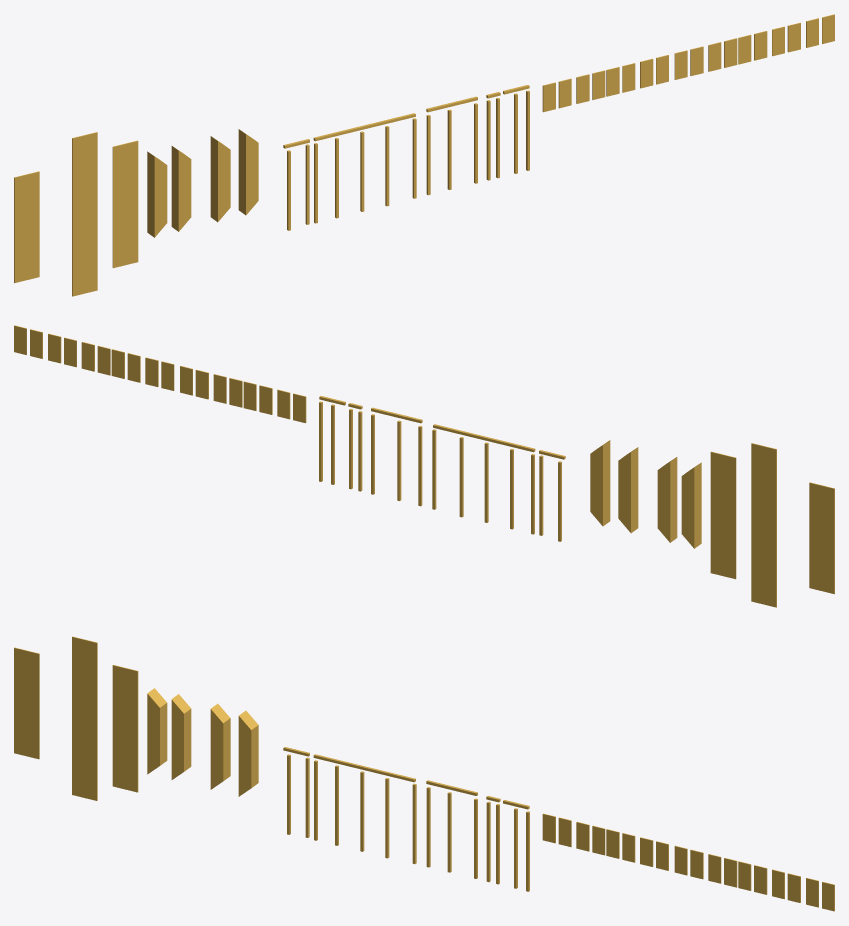
The picture shows the model from 3 angles, top to bottom: view 1: azimuth 30°, elevation 25°; view 2: azimuth 150°, elevation 25°; view 3: azimuth 330°, elevation 25°; orthographic projection.
Visible parts, largest first — view 1: 階段床2, 階段床3, 階段床1, 支柱, 支柱.003, 支柱.002, 支柱.001; view 2: 階段床2, 階段床3, 階段床1, 支柱, 支柱.003, 支柱.002, 支柱.001; view 3: 階段床2, 階段床3, 階段床1, 支柱, 支柱.003, 支柱.002, 支柱.001.
Part boxes in pixels (bbox=[...]): 階段床2: bbox=[72, 132, 97, 296]; 階段床3: bbox=[112, 140, 138, 268]; 階段床1: bbox=[14, 171, 39, 283]; 支柱: bbox=[238, 129, 258, 215]; 支柱.003: bbox=[210, 136, 230, 222]; 支柱.002: bbox=[171, 146, 191, 231]; 支柱.001: bbox=[147, 151, 167, 237]; 階段床2: bbox=[751, 443, 776, 607]; 階段床3: bbox=[710, 451, 736, 579]; 階段床1: bbox=[809, 482, 834, 594]; 支柱: bbox=[590, 440, 610, 526]; 支柱.003: bbox=[618, 447, 638, 533]; 支柱.002: bbox=[657, 457, 677, 542]; 支柱.001: bbox=[681, 462, 701, 548]; 階段床2: bbox=[72, 636, 97, 800]; 階段床3: bbox=[112, 665, 138, 792]; 階段床1: bbox=[14, 647, 39, 759]; 支柱: bbox=[238, 710, 258, 796]; 支柱.003: bbox=[210, 703, 230, 789]; 支柱.002: bbox=[171, 694, 191, 779]; 支柱.001: bbox=[147, 688, 167, 774].
Size of the model in its own units: 6.52 by 1.2 by 0.1.
